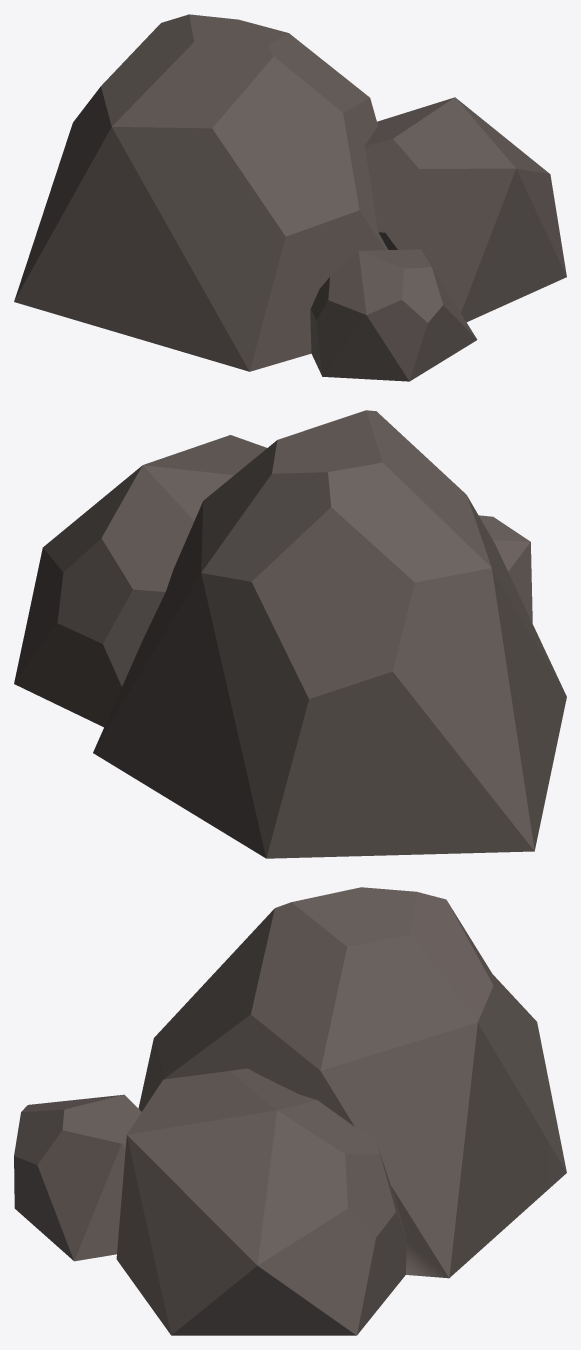
Rendered from Stone(1).fbx.
3 renders of one model, top to bottom at view 1: azimuth 30°, elevation 25°; view 2: azimuth 150°, elevation 25°; view 3: azimuth 270°, elevation 25°, orthographic. The views are drawn at different scales.
Parts seen in each view (by area): view 1: Stone(1); view 2: Stone(1); view 3: Stone(1).
Part boxes in pixels (bbox=[...]): Stone(1): bbox=[14, 14, 566, 381]; Stone(1): bbox=[14, 410, 566, 858]; Stone(1): bbox=[14, 887, 566, 1335].
Bounding box in the file's own units: 1.63 × 0.8599 × 1.47.
